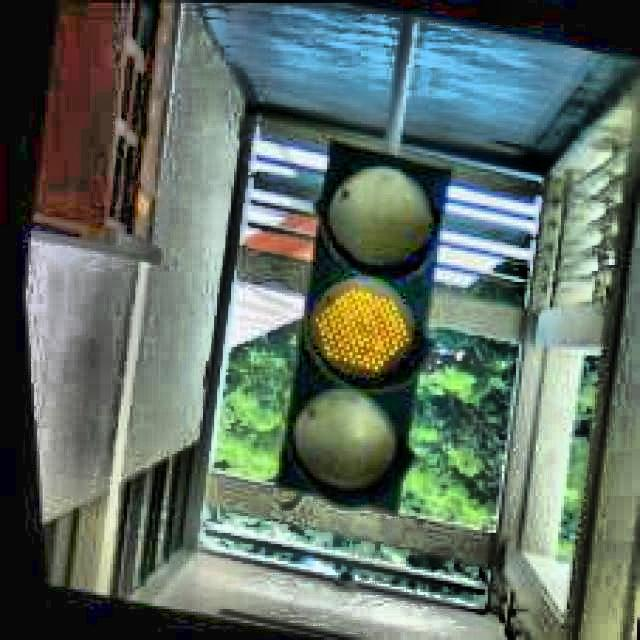yellow: (286, 143, 420, 506)
